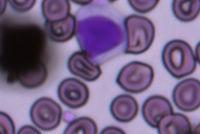L: (75, 0, 129, 65)
